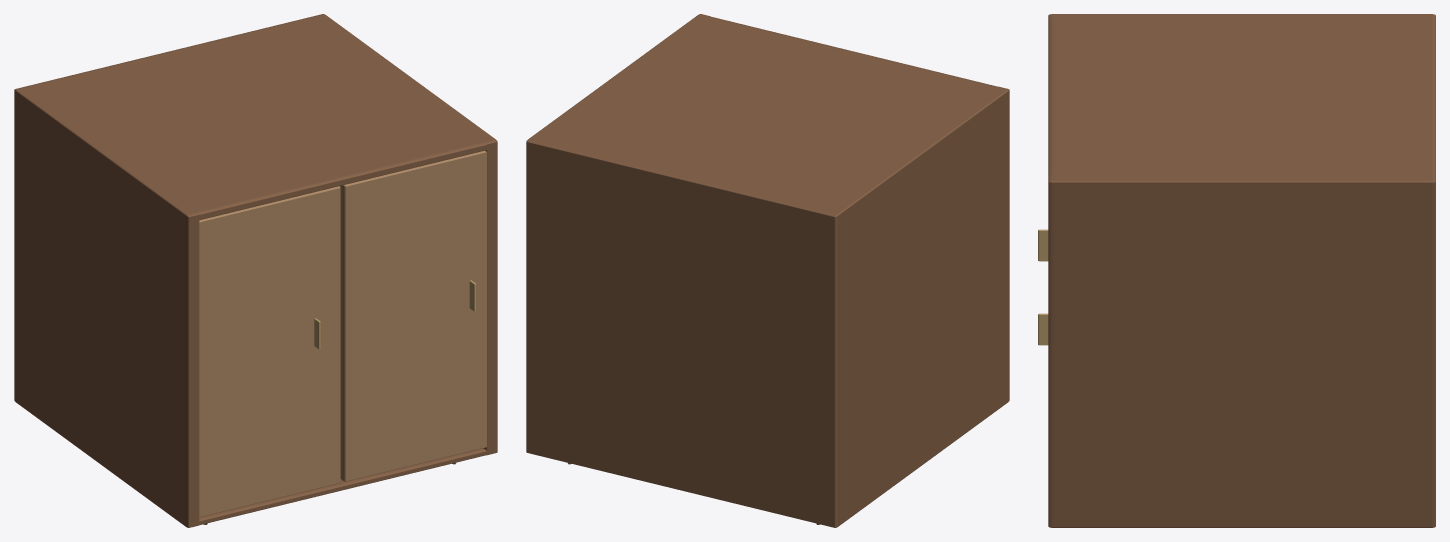
Rendered from cabinet-3-3.glb.
3 renders of one model, left to right at view 1: azimuth 30°, elevation 25°; view 2: azimuth 150°, elevation 25°; view 3: azimuth 270°, elevation 25°, orthographic. The views are drawn at different scales.
Parts seen in each view (by area): view 1: part, upholstery; view 2: part; view 3: part, upholstery.
Boxes of the visible parts, box(x1,y1,x2,y2) form: part: box(14, 14, 497, 527); upholstery: box(199, 150, 486, 517); part: box(526, 14, 1009, 527); part: box(1048, 14, 1435, 527); upholstery: box(1038, 229, 1048, 345).
Bounding box in the file's own units: 1 × 1 × 1.
